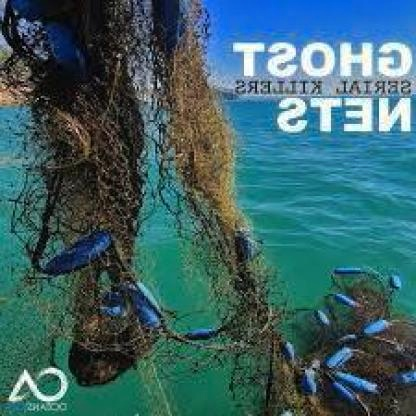net: (11, 2, 253, 379)
